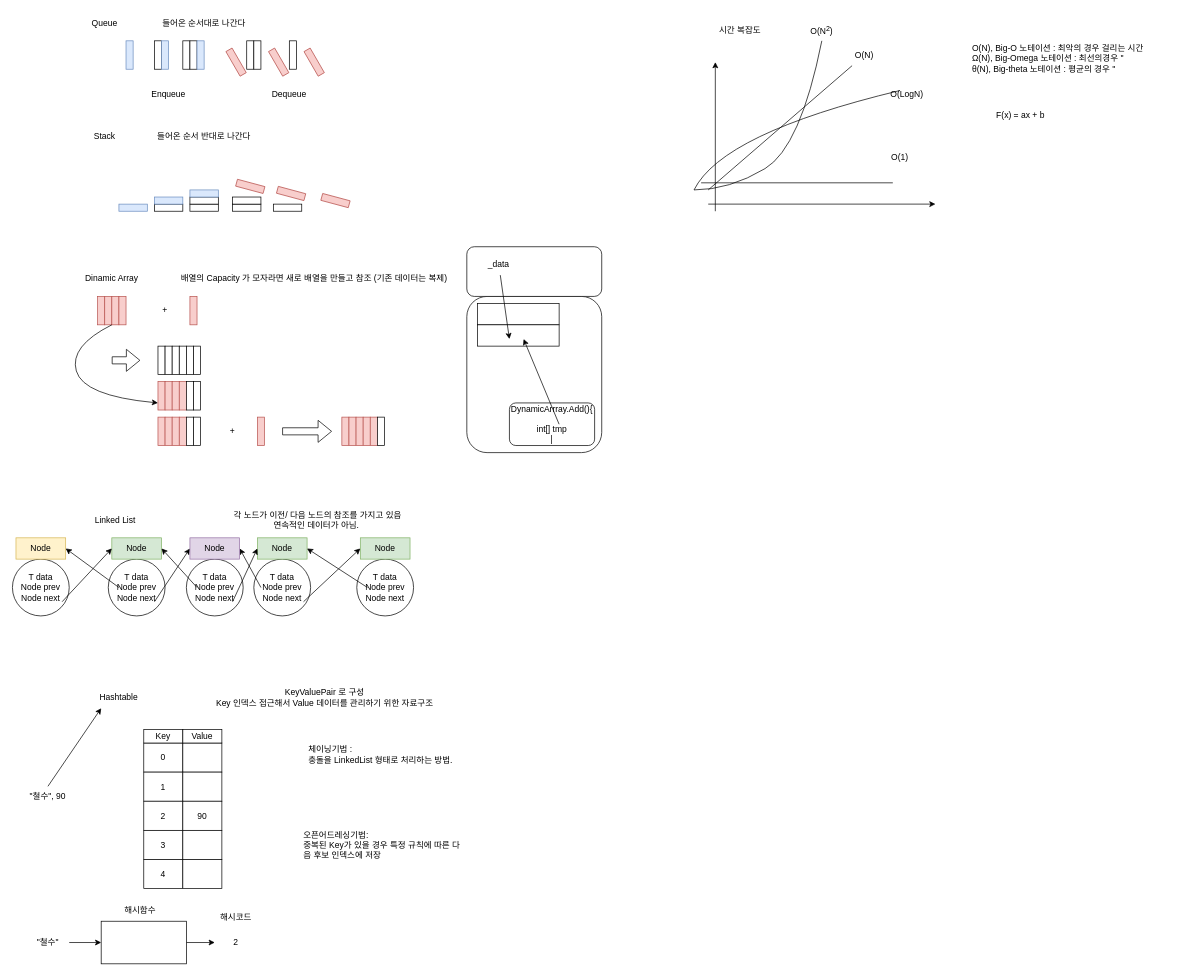
This 1196x976 diagram has some shape labels left out. Here are the shapes that lost their labels. From the top down, the centre of each, then its label:
At (518,314): "array[Capacity]".
At (518,335): "array[Capacity * 2]".
At (143,942): "F(?)".
